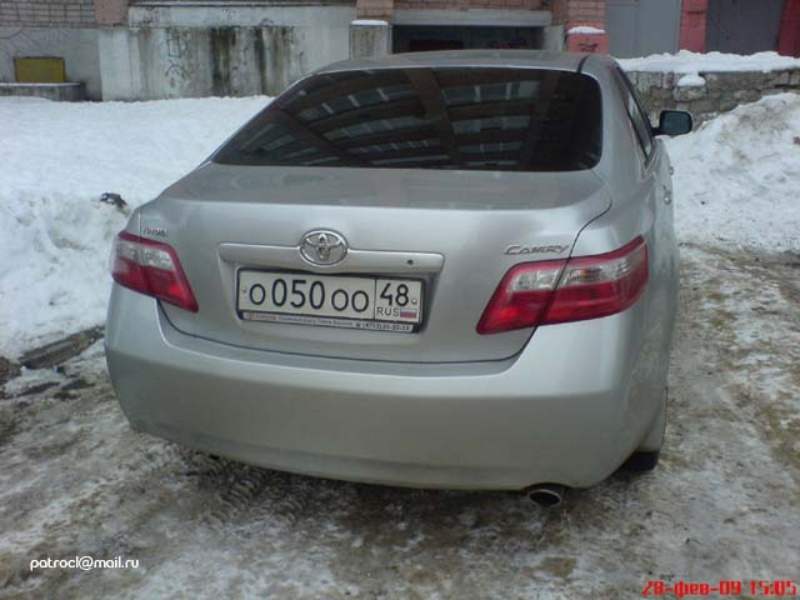car: (102, 47, 694, 504)
plate: (238, 270, 420, 322)
